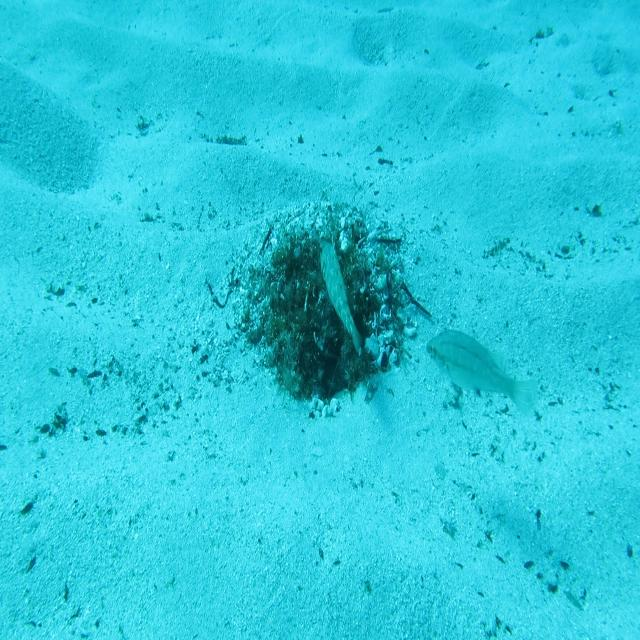BK_SW: (318, 233, 363, 356)
core_nest: (296, 234, 351, 278)
female: (424, 328, 540, 420)
nest: (212, 184, 426, 426)
